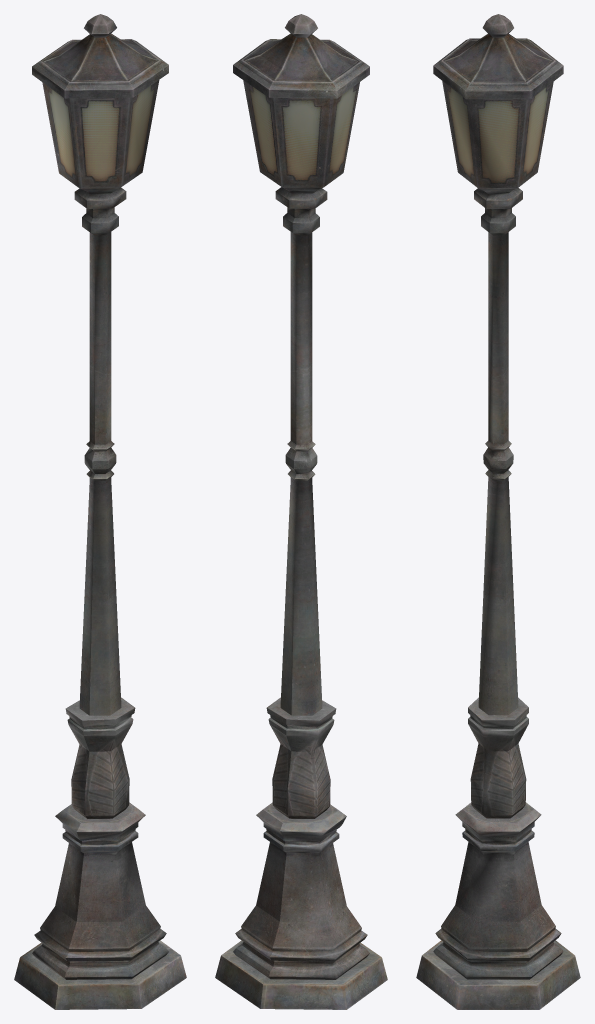
File: bg_atm_leonhart_streetlight01_sm_msj.FBX
3 renders of one model, left to right at view 1: azimuth 30°, elevation 25°; view 2: azimuth 150°, elevation 25°; view 3: azimuth 270°, elevation 25°, orthographic.
Parts seen in each view (by area): view 1: bg_atm_leonhart_streetlight01_sm_msj; view 2: bg_atm_leonhart_streetlight01_sm_msj; view 3: bg_atm_leonhart_streetlight01_sm_msj.
Part boxes in pixels (x1=…): bg_atm_leonhart_streetlight01_sm_msj: x1=14, y1=14, x2=186, y2=1009; bg_atm_leonhart_streetlight01_sm_msj: x1=215, y1=14, x2=387, y2=1009; bg_atm_leonhart_streetlight01_sm_msj: x1=416, y1=14, x2=580, y2=1009.
Size of the model in its own units: 52.34 by 367 by 56.66.
